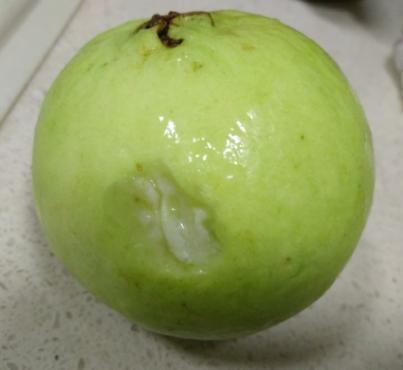guava_B: (31, 12, 377, 340)
